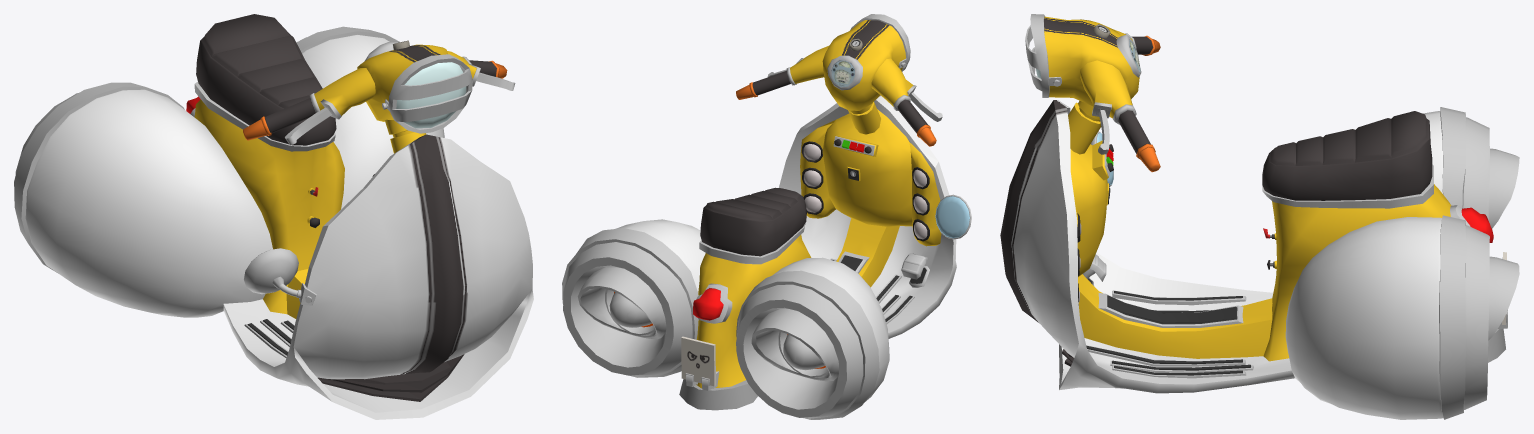
Rendered from PROP_Moto01.FBX.
3 views of the same model, side by side, from view 1: azimuth 30°, elevation 25°; view 2: azimuth 150°, elevation 25°; view 3: azimuth 270°, elevation 25° (orthographic). The views are drawn at different scales.
Parts seen in each view (by area): view 1: RETOPO CUERPO, RETOPO LUZ; view 2: RETOPO CUERPO, RETOPO LUZ; view 3: RETOPO CUERPO, RETOPO LUZ.
Part boxes in pixels (<box>): RETOPO CUERPO: <box>14,14,533,419</box>; RETOPO LUZ: <box>186,62,466,128</box>; RETOPO CUERPO: <box>562,14,971,419</box>; RETOPO LUZ: <box>693,288,723,320</box>; RETOPO CUERPO: <box>1000,14,1519,419</box>; RETOPO LUZ: <box>1036,69,1493,242</box>.
Size of the model in its own units: 62.94 by 54.3 by 71.03.
